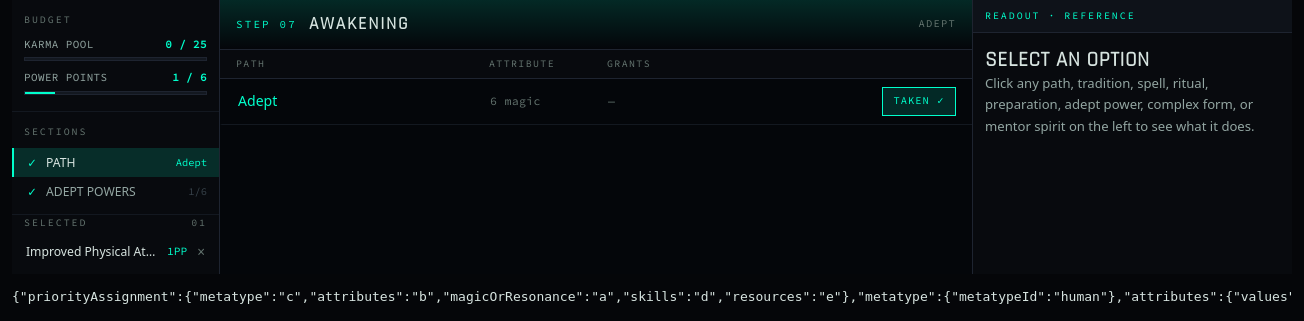
Test: adept power parameters › reports the chosen target on the power row
What coordinates should you click on to do the following:
click the button "✓ ADEPT POWERS 1/6"
I would click on:
 (116, 191)
Its box is [12,176,219,206].
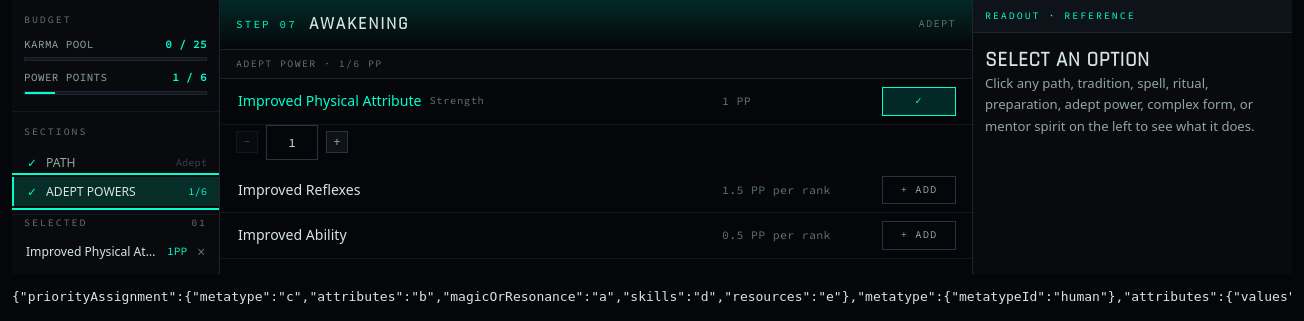
Expected: the button "Improved Physical Attribute" shows "Strength", [220,79,972,124]
